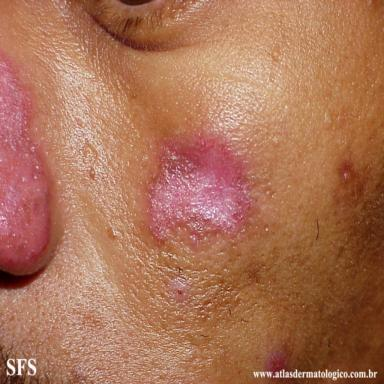Lupus-Erythematosus-Chronicus-Discoides: (0, 53, 55, 275), (148, 136, 250, 244)
